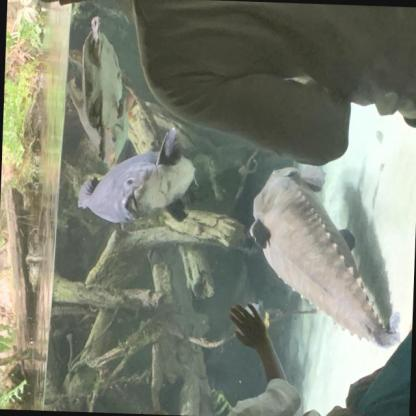fish: (246, 160, 405, 348), (75, 122, 200, 230)
